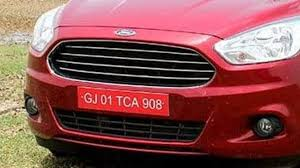number_plate: (71, 83, 180, 120)
